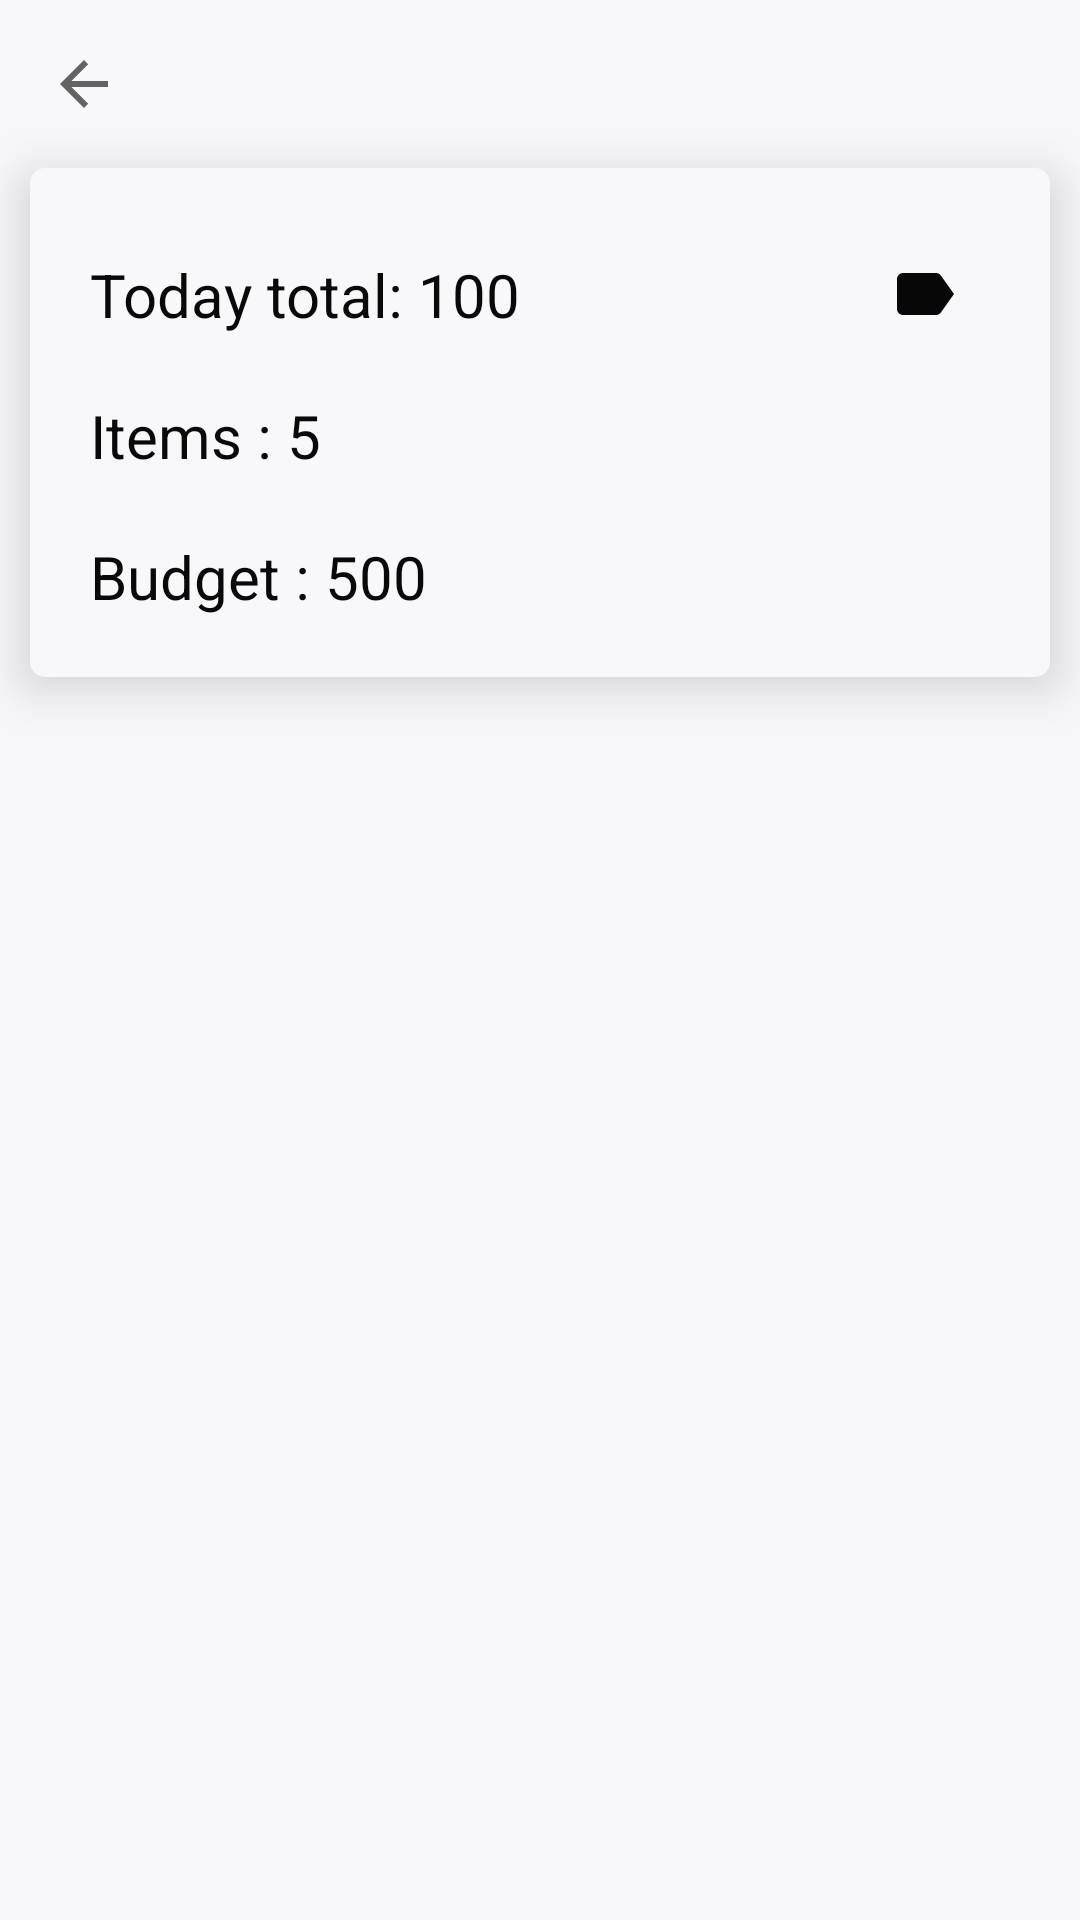

Named icons in this screenshot (1080 × 1920) and their bounding boxes, (x1, y1, x2, y2):
label: (897, 273, 954, 315)
